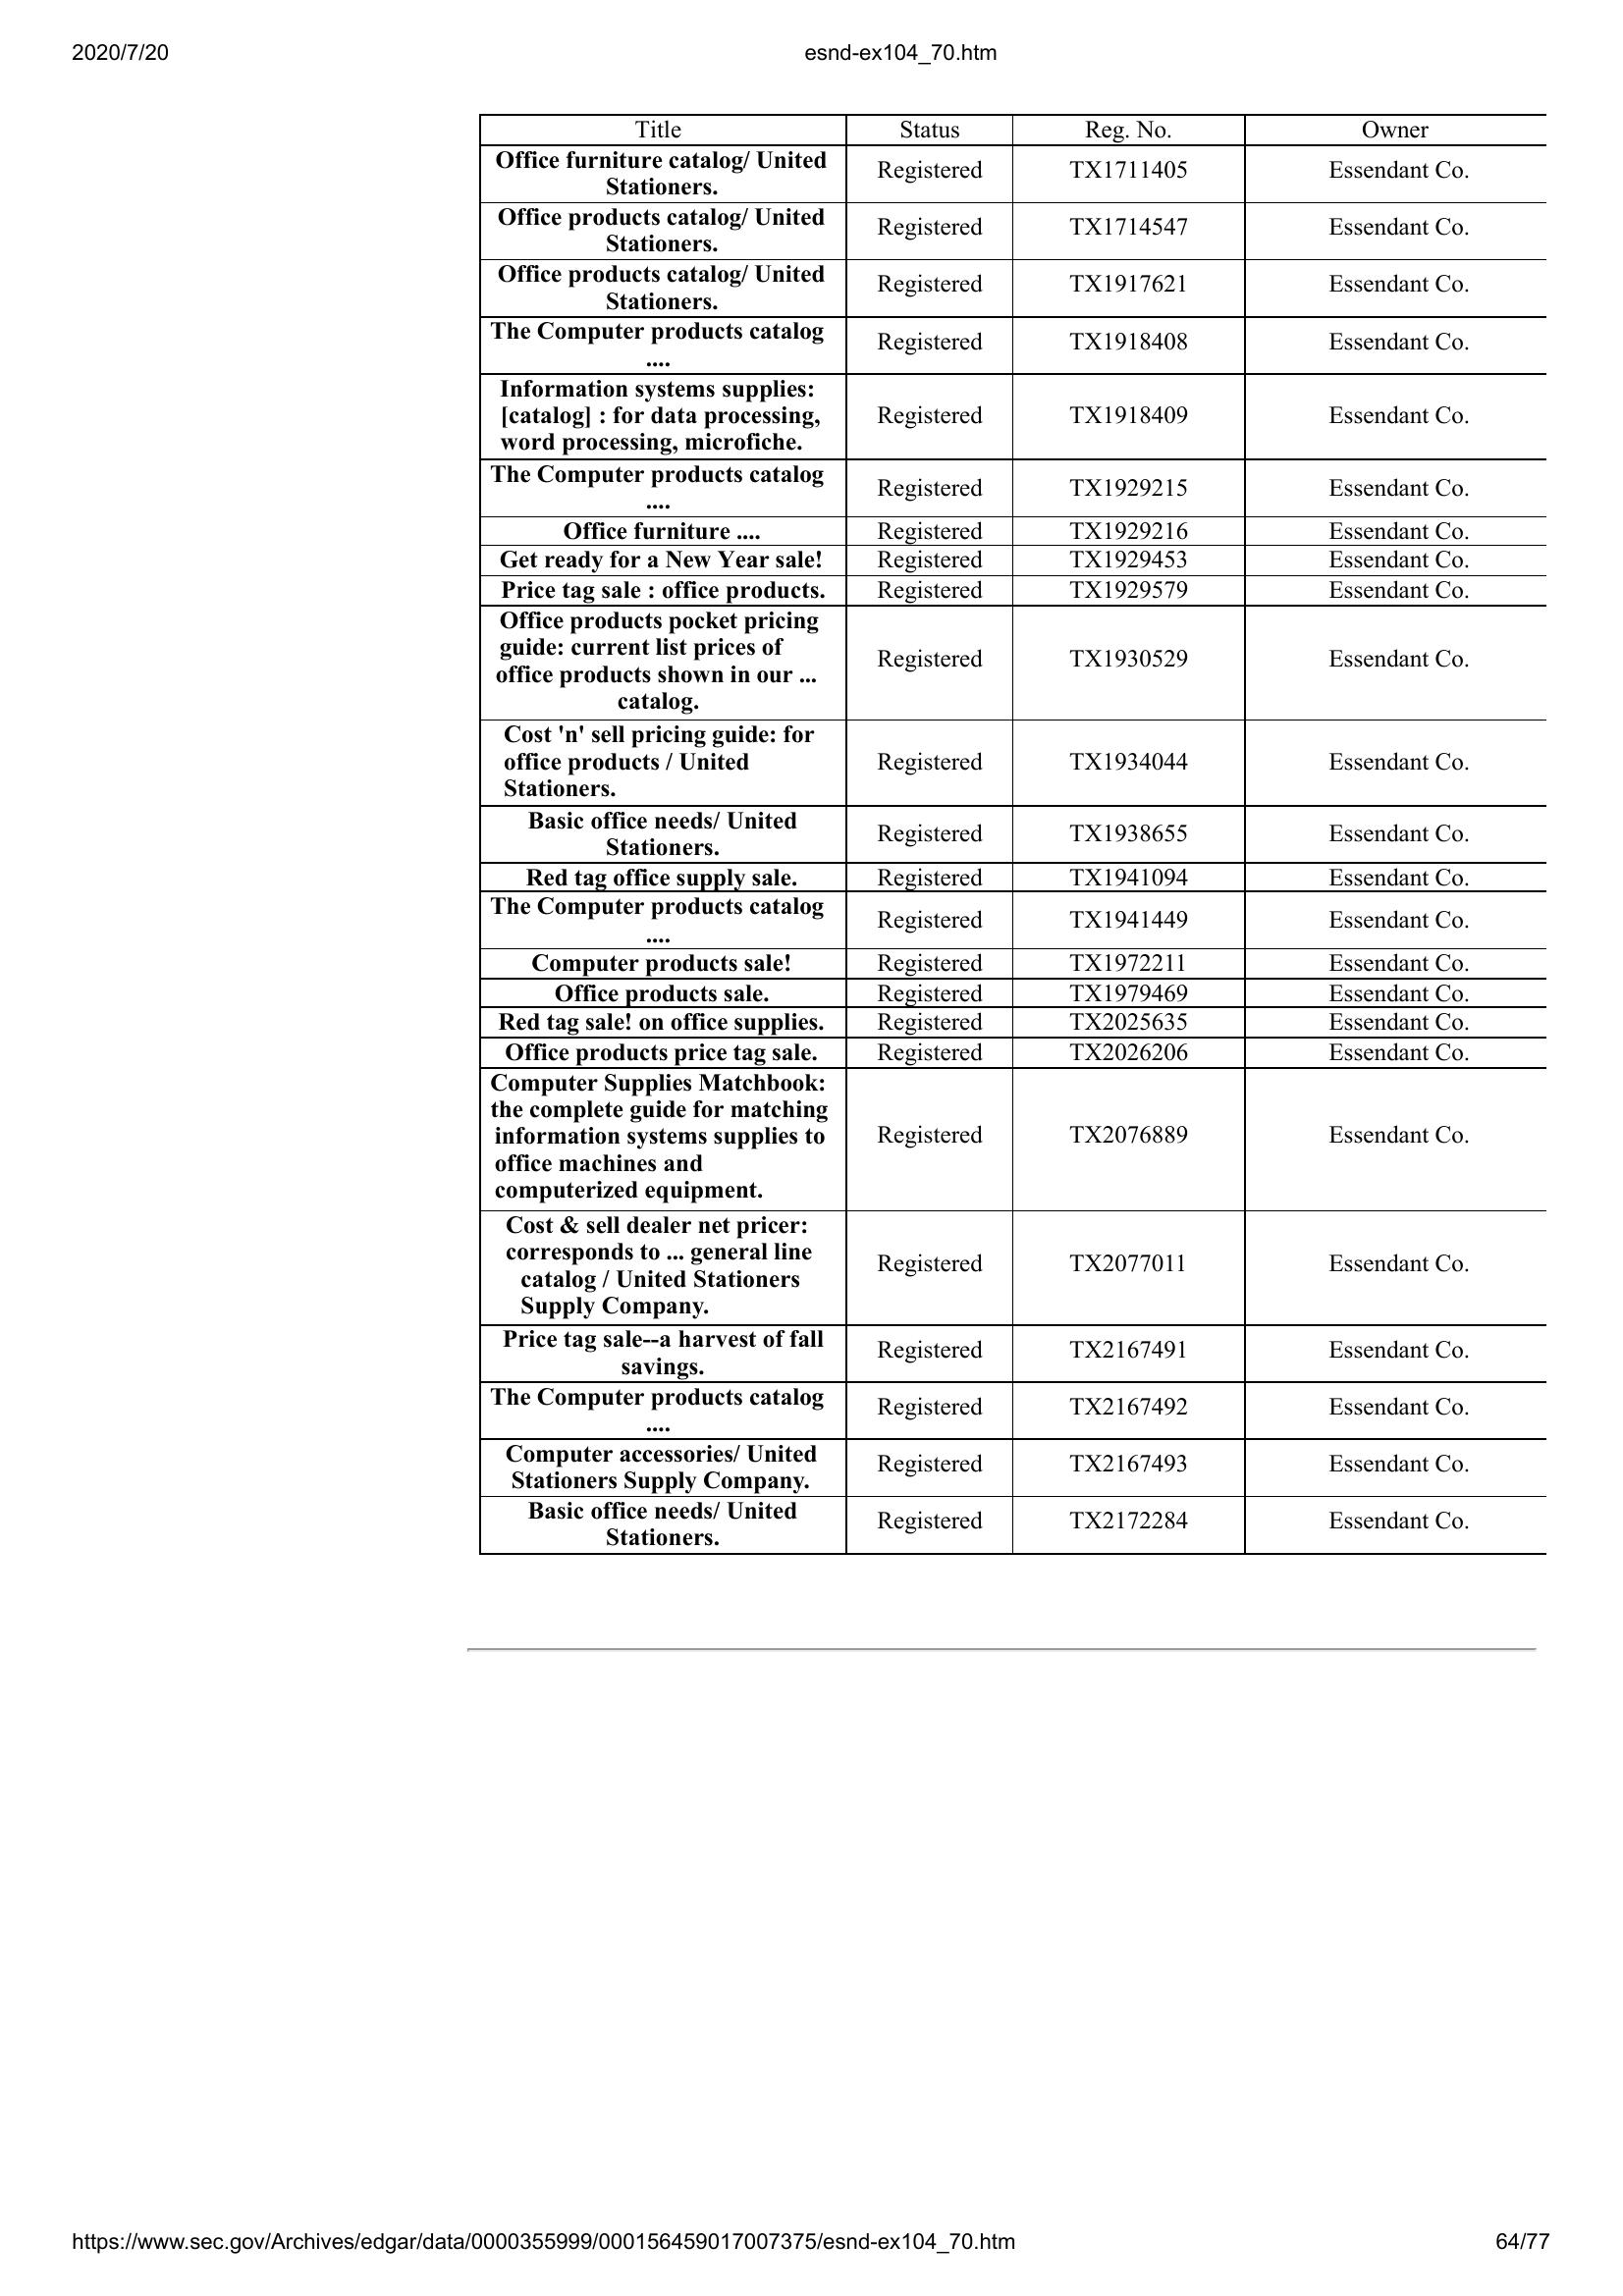table: (471, 105, 1558, 1569)
